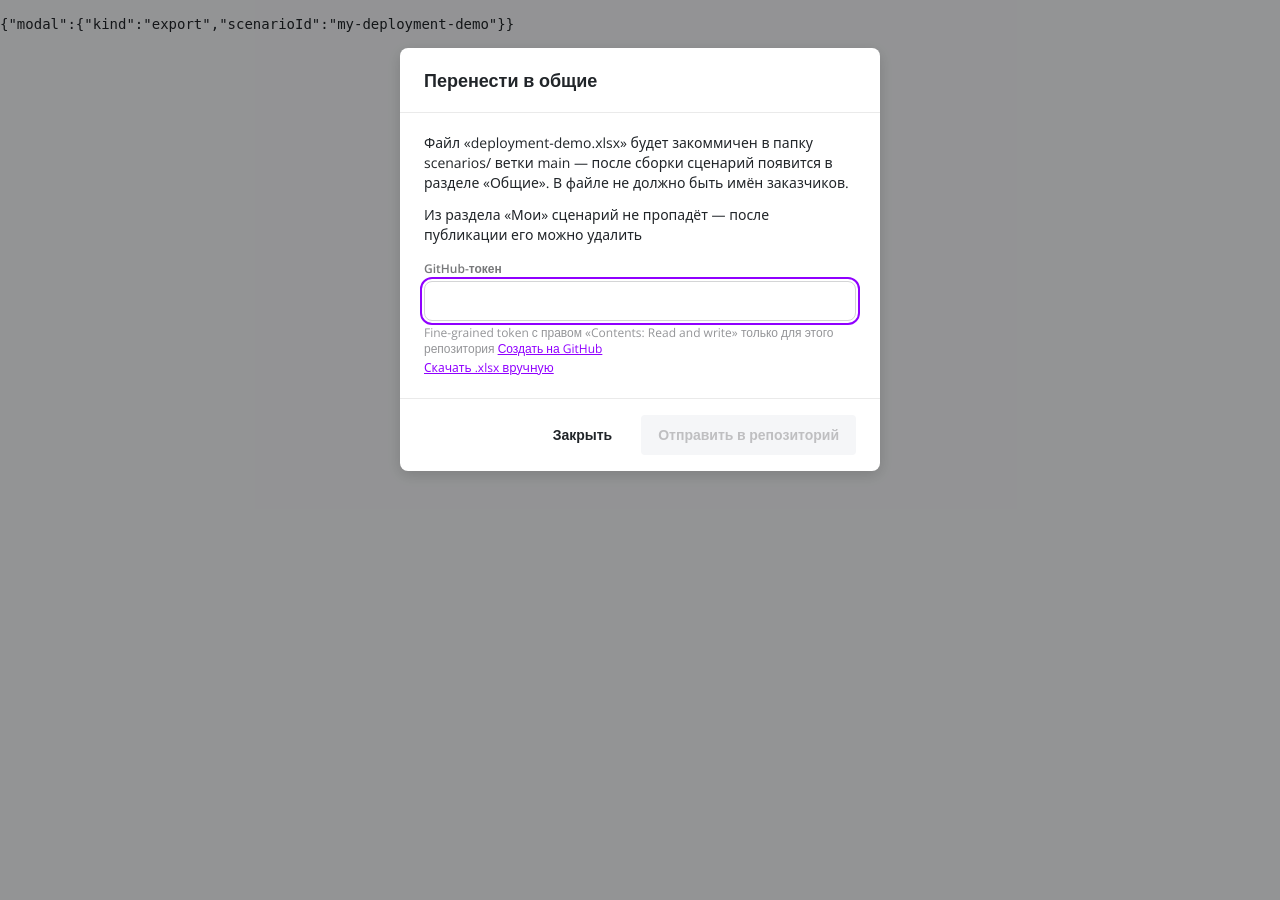
Test: ExportDialog — отправка в репозиторий (SPEC §4.2:255, ТК 35) › сеть: свой текст, окно остаётся в форме
Type "github_pat_fresh" into the password field labelled "GitHub-токен" at (640, 301), box [424, 281, 856, 321]
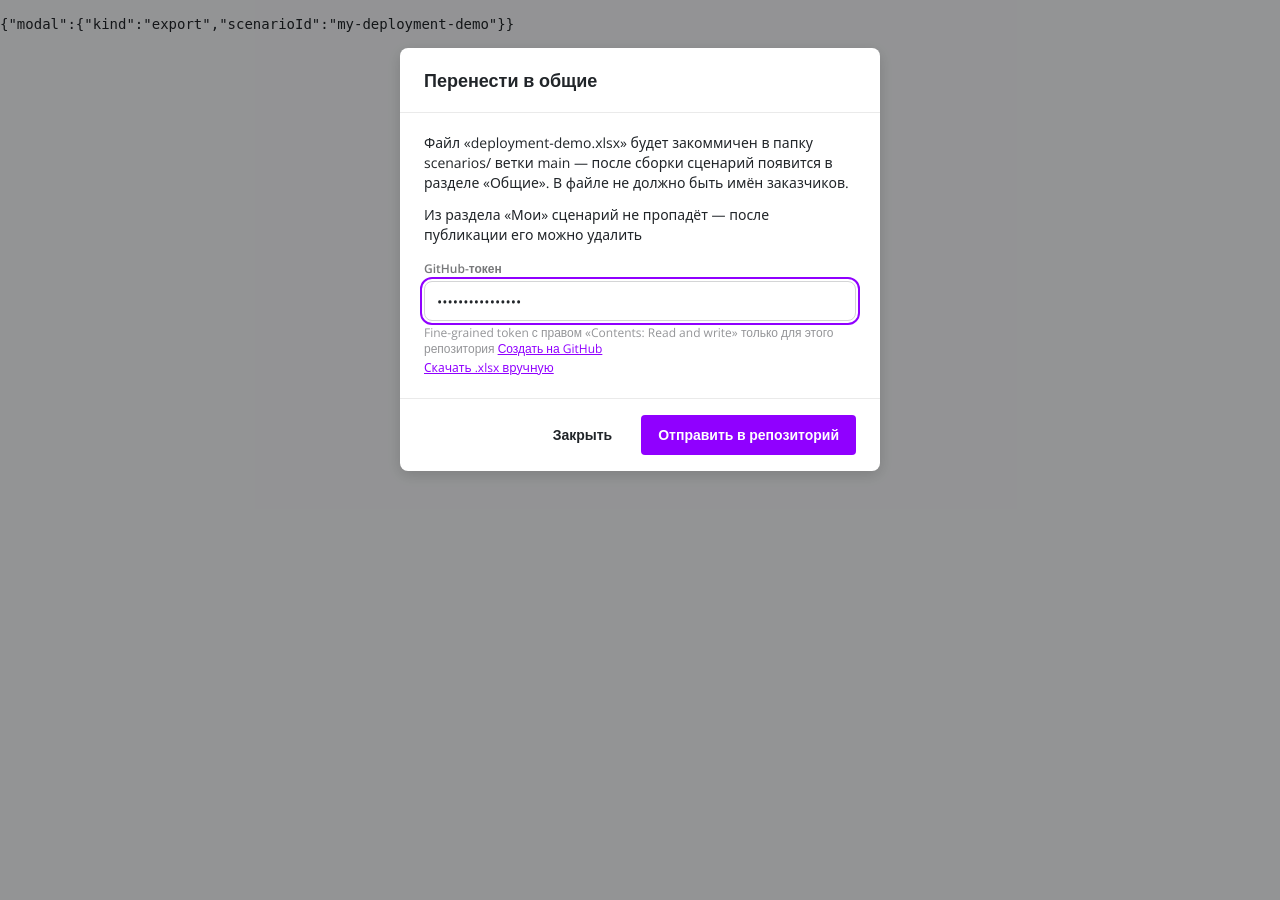
Click the button "Отправить в репозиторий" at (749, 435), box [641, 415, 856, 455]
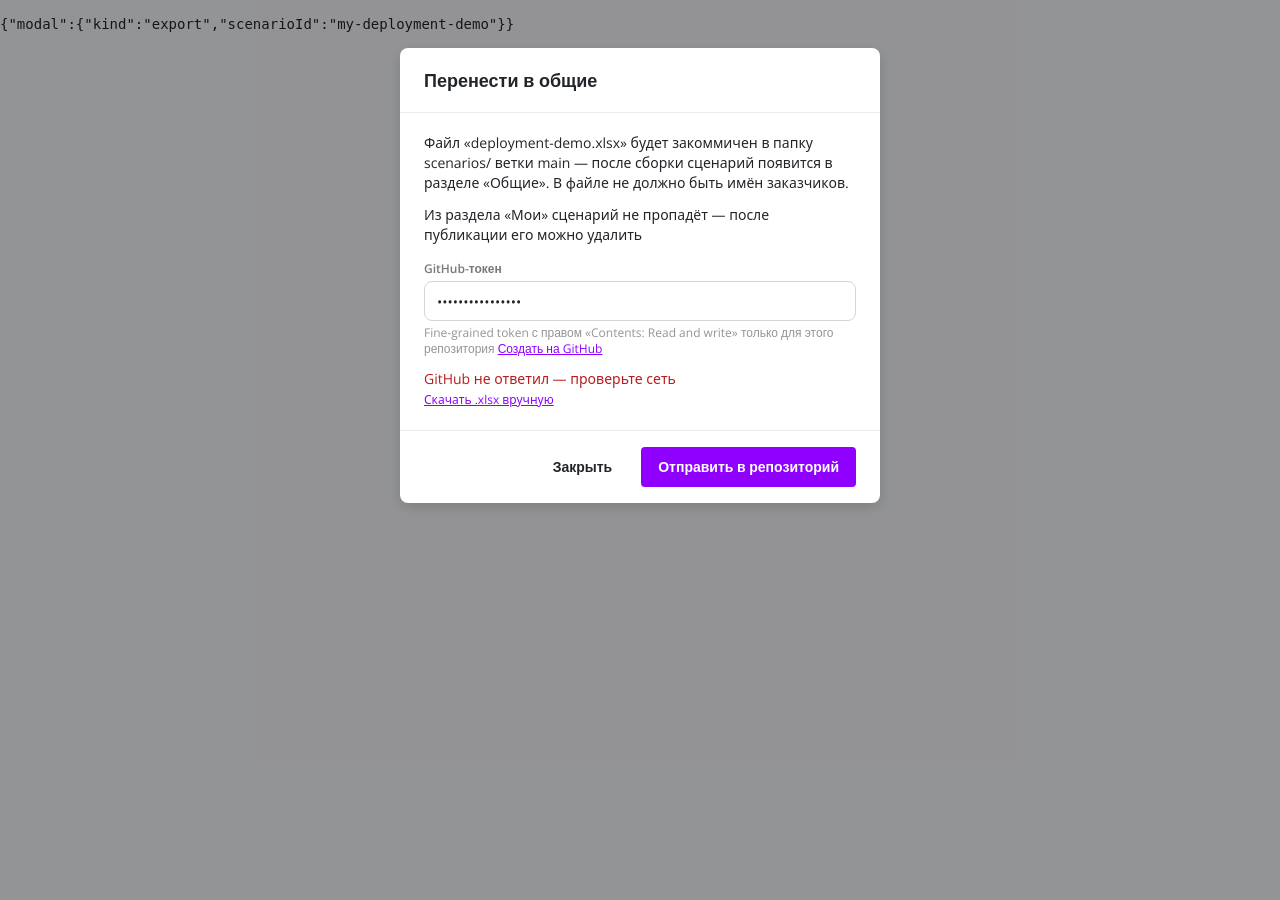
Check: the message reads "GitHub не ответил — проверьте сеть", box [424, 369, 676, 388]
